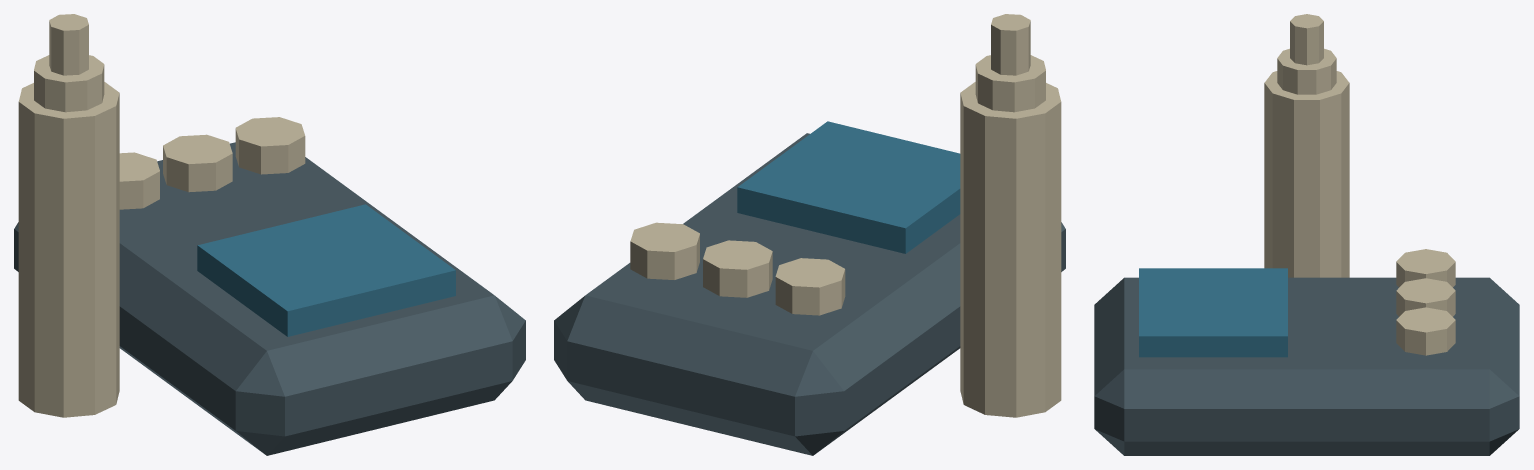
Rendered from set_reagent_bottle.glb.
The picture shows the model from 3 angles, left to right: view 1: azimuth 30°, elevation 25°; view 2: azimuth 150°, elevation 25°; view 3: azimuth 270°, elevation 25°; orthographic projection. The views are drawn at different scales.
Visible parts, largest first — view 1: set_reagent_bottle; view 2: set_reagent_bottle; view 3: set_reagent_bottle.
Part boxes in pixels (bbox=[...]): set_reagent_bottle: bbox=[14, 14, 525, 455]; set_reagent_bottle: bbox=[554, 14, 1065, 455]; set_reagent_bottle: bbox=[1094, 14, 1519, 455].
Bounding box in the file's own units: 0.174 × 0.16 × 0.2.
